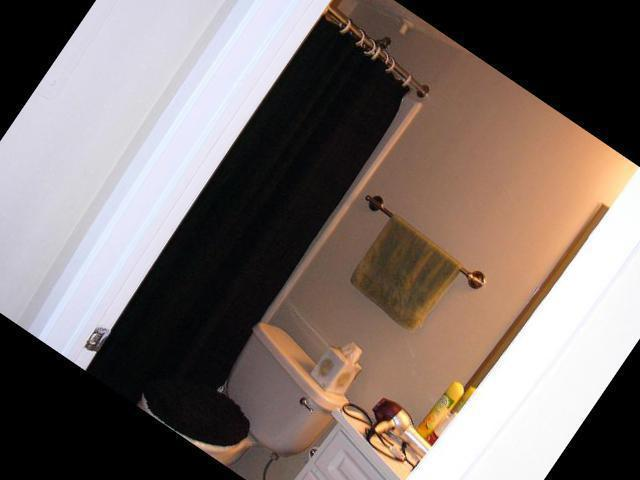Ducha: (46, 0, 424, 435)
Sanitario: (134, 283, 360, 480)
